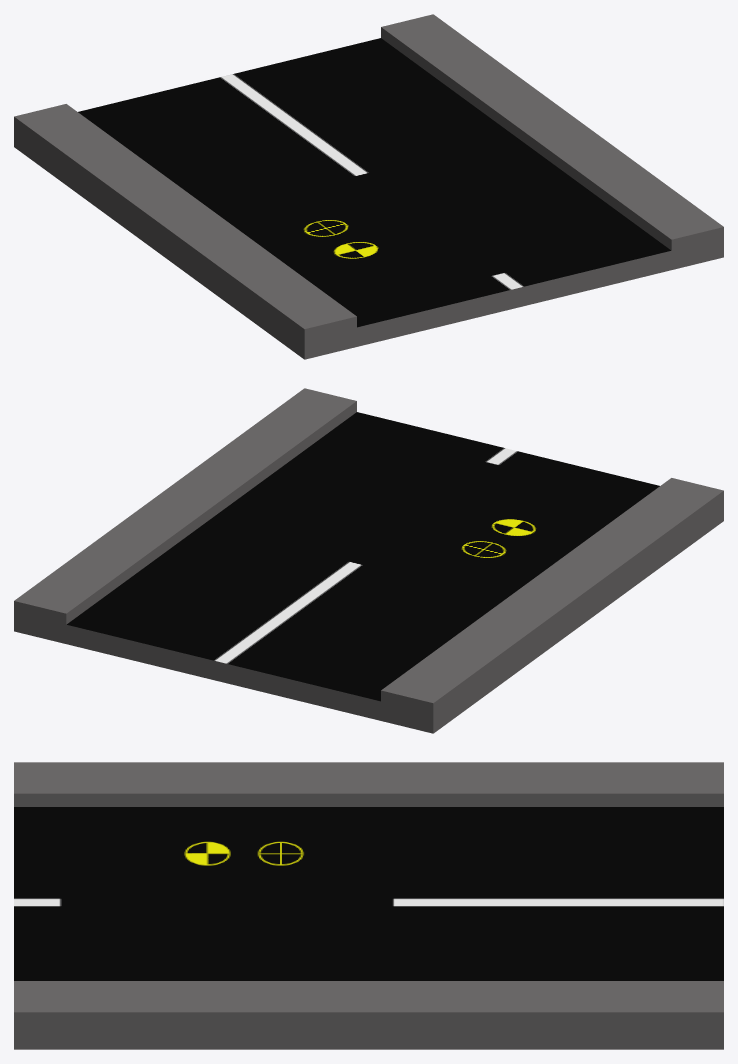
The picture shows the model from 3 angles, top to bottom: view 1: azimuth 30°, elevation 25°; view 2: azimuth 150°, elevation 25°; view 3: azimuth 270°, elevation 25°; orthographic projection. The views are drawn at different scales.
Visible parts, largest first — view 1: Group1; view 2: Group1; view 3: Group1.
Part boxes in pixels (box(x1,y1,x2,y2)): Group1: box(14, 14, 723, 359); Group1: box(14, 388, 723, 733); Group1: box(14, 762, 723, 1049).
Bounding box in the file's own units: 8 × 9.6 × 0.556.
